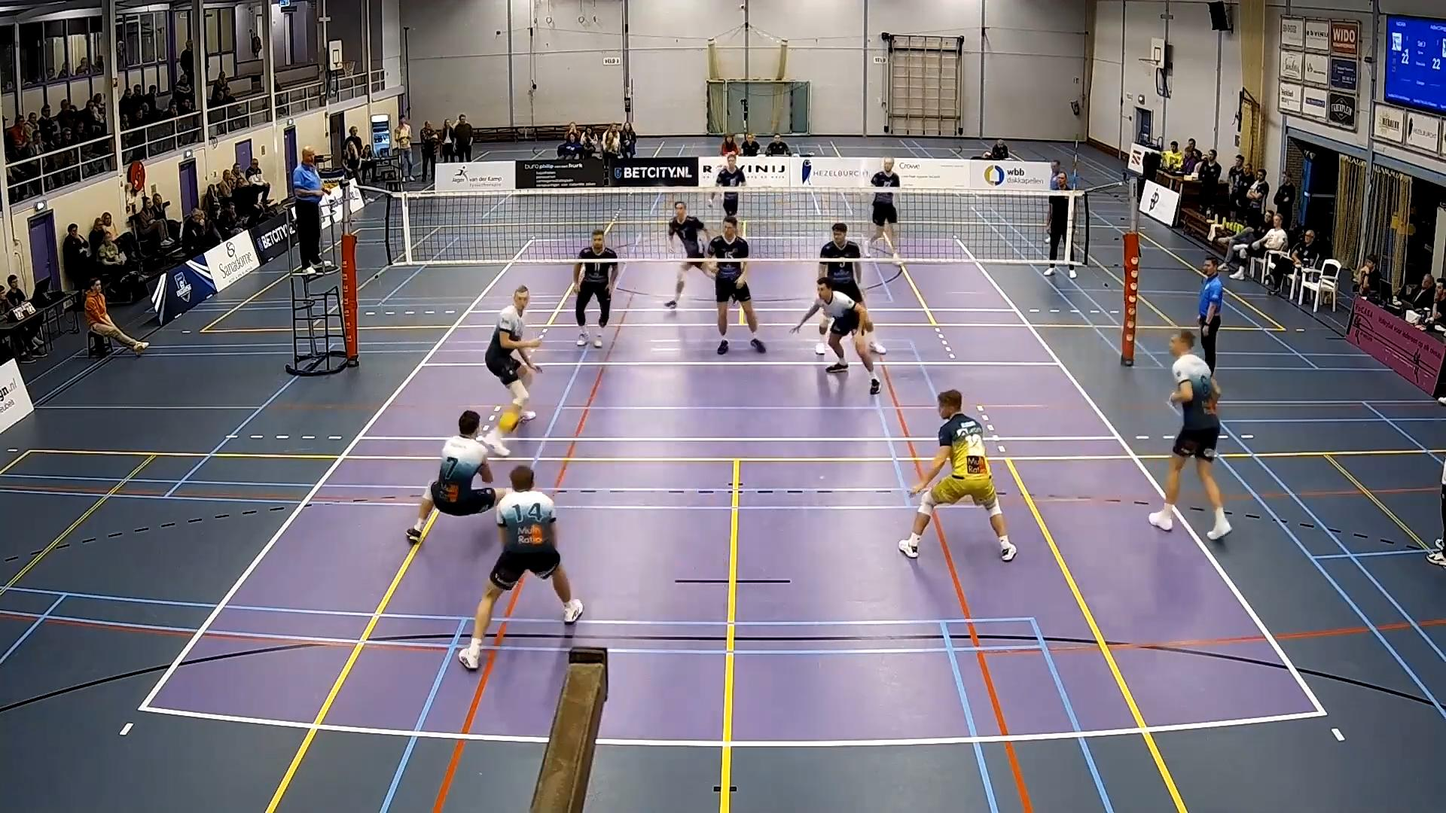ricezione: (404, 409, 526, 549)
